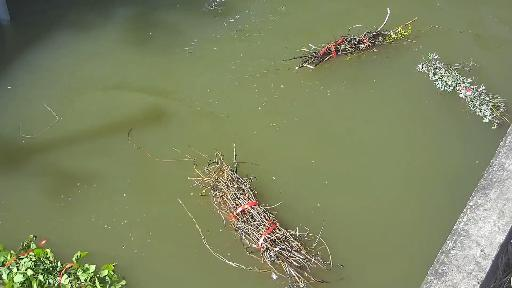twig: (122, 124, 350, 288), (291, 3, 445, 73), (0, 224, 142, 288), (413, 42, 512, 131)
